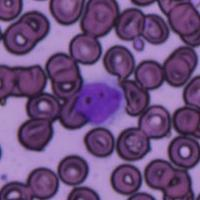L: (72, 76, 127, 127)
